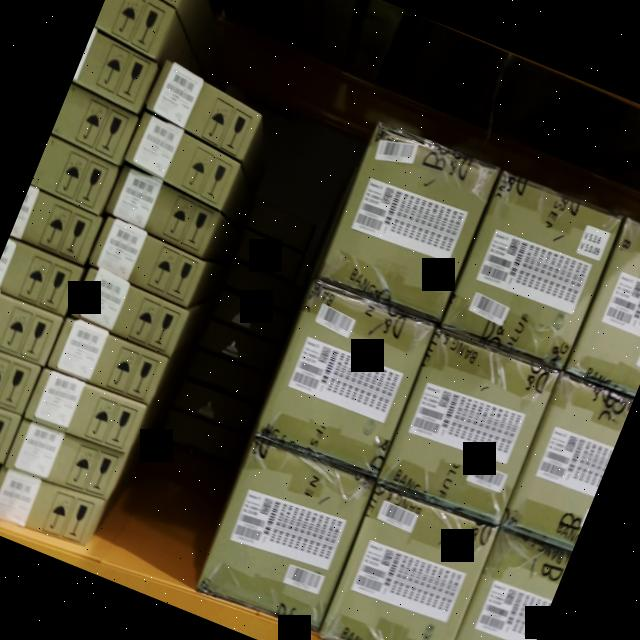box: (446, 174, 620, 370), (256, 283, 434, 472), (384, 328, 556, 520), (322, 132, 496, 316), (198, 443, 372, 627), (323, 493, 492, 640), (123, 115, 243, 206), (146, 66, 264, 153), (88, 220, 206, 306), (70, 269, 188, 355), (28, 369, 144, 452), (48, 320, 164, 402), (105, 172, 218, 252), (7, 422, 121, 498), (0, 469, 98, 546)
